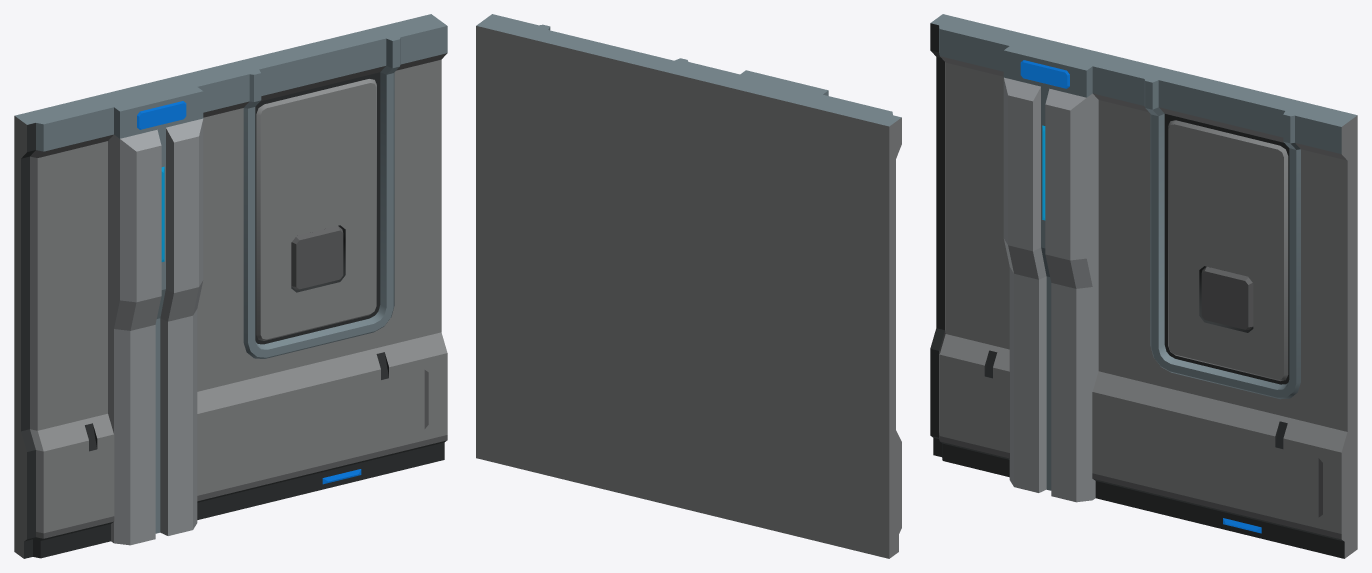
Rendered from Wall_type_B_047.glb.
3 renders of one model, left to right at view 1: azimuth 30°, elevation 25°; view 2: azimuth 150°, elevation 25°; view 3: azimuth 330°, elevation 25°, orthographic.
Visible parts, largest first — view 1: Wall_type_B_047; view 2: Wall_type_B_047; view 3: Wall_type_B_047.
Part boxes in pixels (<box>): Wall_type_B_047: <box>14,14,447,558</box>; Wall_type_B_047: <box>476,14,901,558</box>; Wall_type_B_047: <box>930,14,1357,558</box>.
Size of the model in its own units: 4 by 4 by 0.4698.
2 materials, 2 textured.
